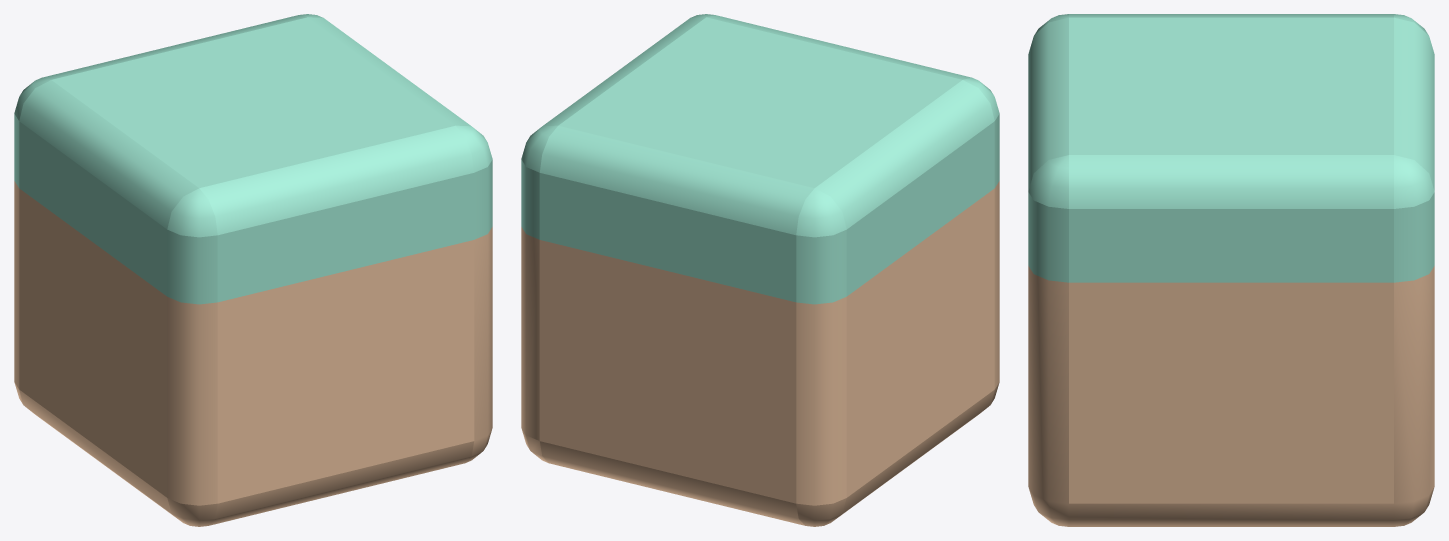
3 views of the same model, side by side, from view 1: azimuth 30°, elevation 25°; view 2: azimuth 150°, elevation 25°; view 3: azimuth 270°, elevation 25° (orthographic). The views are drawn at different scales.
Parts seen in each view (by area): view 1: blockRounded; view 2: blockRounded; view 3: blockRounded.
Boxes of the visible parts, x1=… form: blockRounded: x1=14, y1=14, x2=492, y2=526; blockRounded: x1=521, y1=14, x2=999, y2=526; blockRounded: x1=1028, y1=14, x2=1434, y2=526.
Size of the model in its own units: 1 by 1 by 1.
